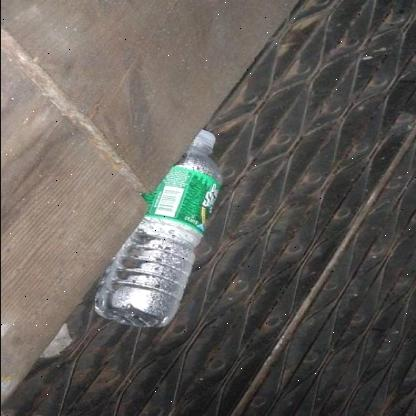Plastic Bottle: (94, 131, 220, 328)
